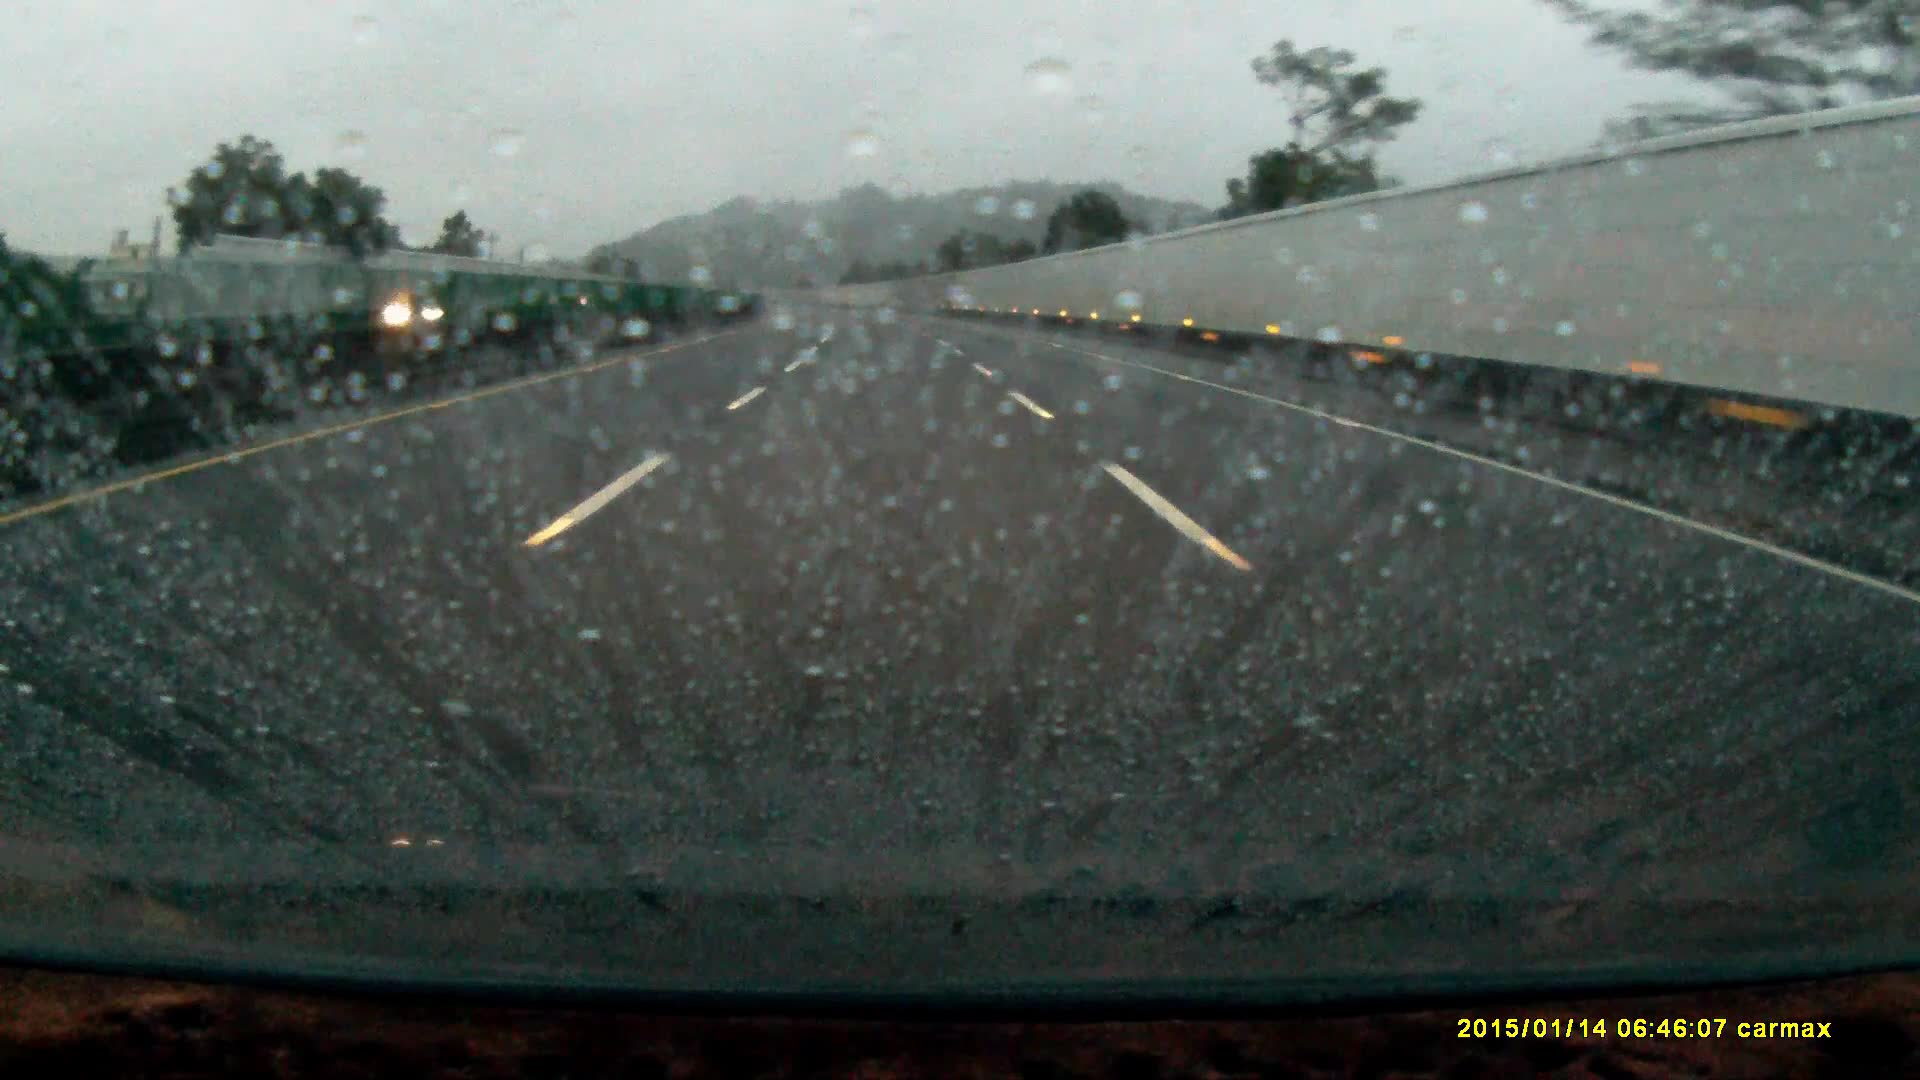vehicle: (381, 290, 462, 331)
